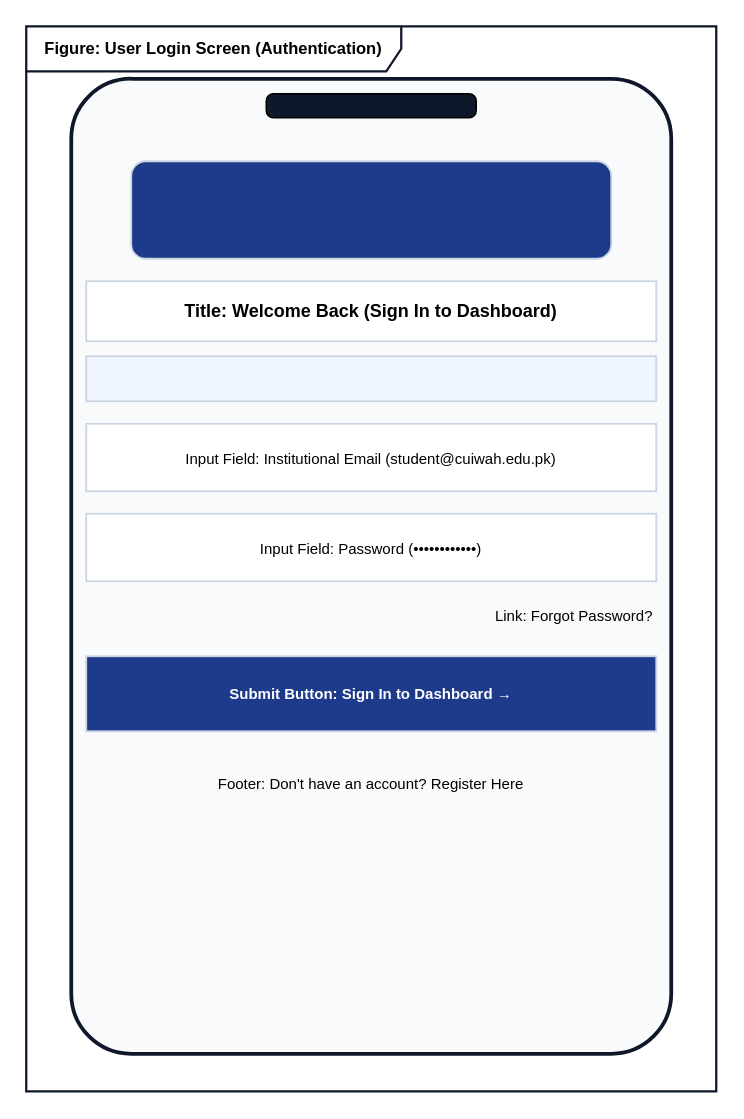
Image size: 744x1119. Some labels were removed from this diagram. Here are the shapes that lost their labels. From the top down, the box of each, then its label:
(130, 160, 611, 259): MindEase Brand Emblem (Neural Lotus & Pulse)
(85, 355, 656, 401): Security Badge: MULTI-ROLE JWT AUTHENTICATION GUARD
